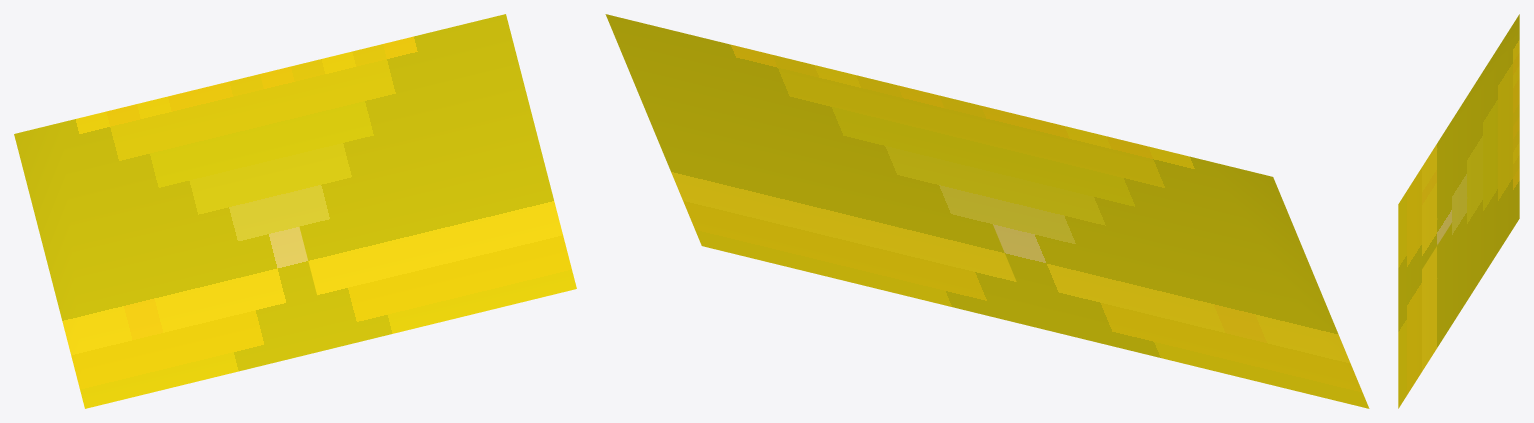
The picture shows the model from 3 angles, left to right: view 1: azimuth 30°, elevation 25°; view 2: azimuth 150°, elevation 25°; view 3: azimuth 270°, elevation 25°; orthographic projection. The views are drawn at different scales.
Bounding box in the file's own units: 1 × 0.4331 × 0.25.
1 material, 1 textured.
